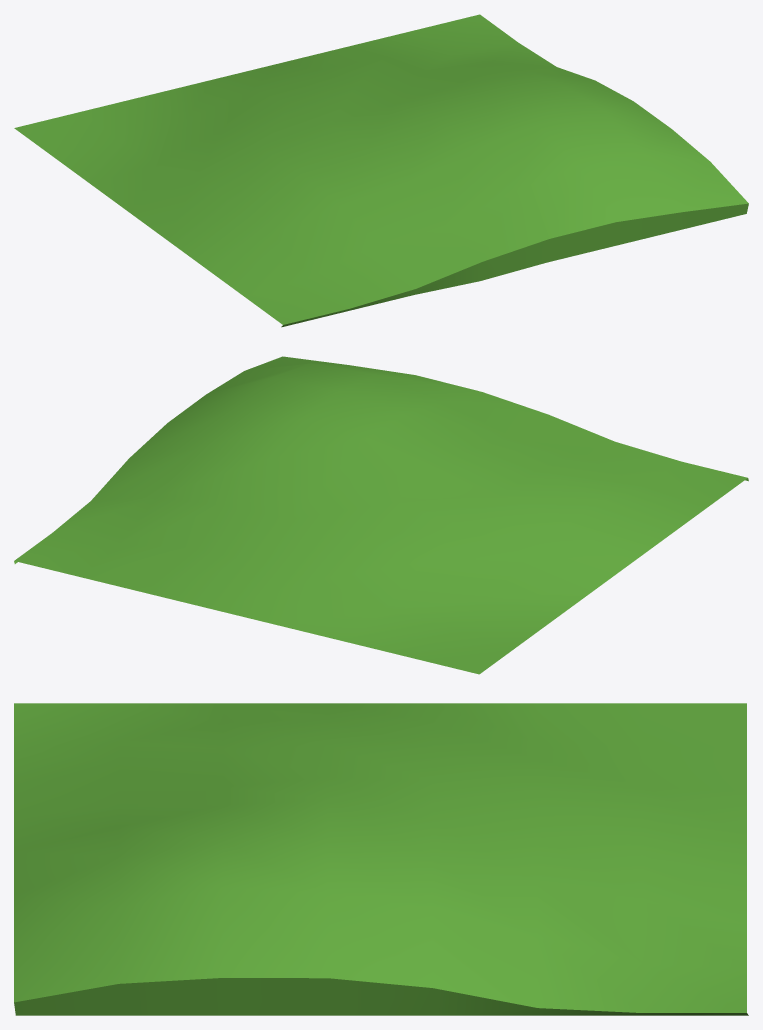
File: Grass-Hill.obj
The picture shows the model from 3 angles, top to bottom: view 1: azimuth 30°, elevation 25°; view 2: azimuth 150°, elevation 25°; view 3: azimuth 270°, elevation 25°; orthographic projection. The views are drawn at different scales.
Visible parts, largest first — view 1: Park_Plane.005; view 2: Park_Plane.005; view 3: Park_Plane.005.
Boxes of the visible parts, <box> form: Park_Plane.005: <box>14,14,748,327</box>; Park_Plane.005: <box>14,356,748,674</box>; Park_Plane.005: <box>14,703,748,1015</box>.
Bounding box in the file's own units: 6.69 × 0.9048 × 6.68.
1 material, 1 textured.
